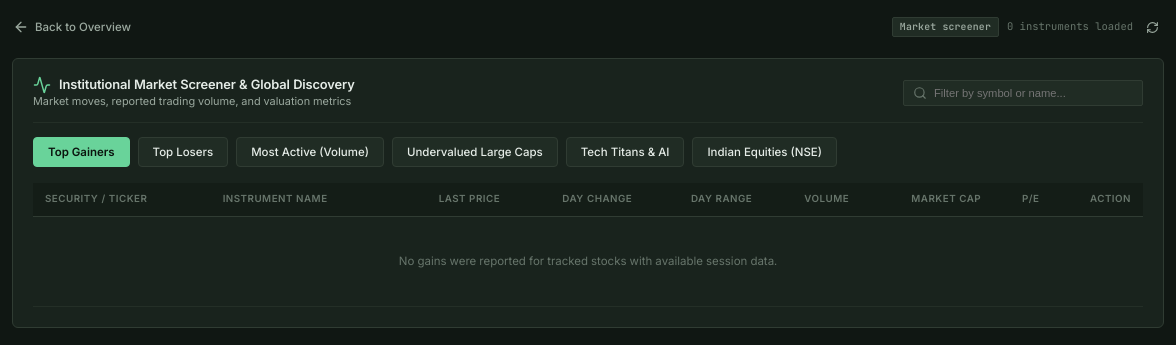
it: explains empty gainers and losers lists using available session data
Expected: the text "No gains were reported" is shown, [399,254,777,268]
Click the button "Top Losers".
click(183, 152)  # box [138,137,228,167]
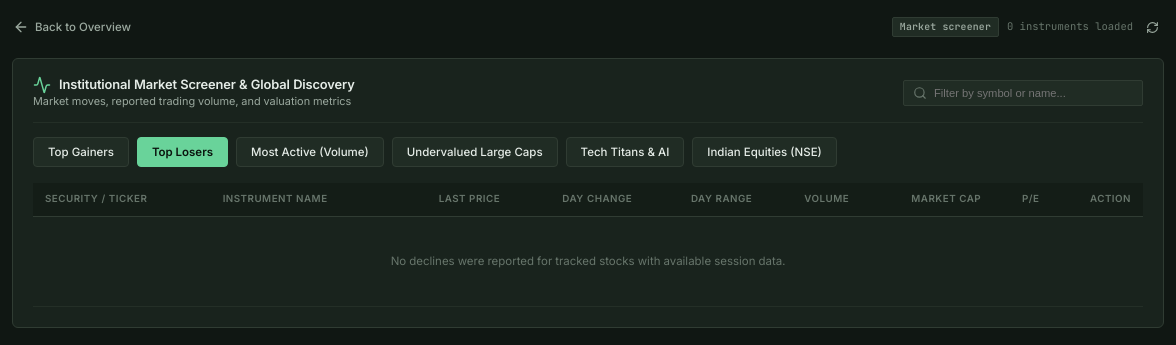
Expected: the text "No declines were reported" is shown, [391,254,785,268]
